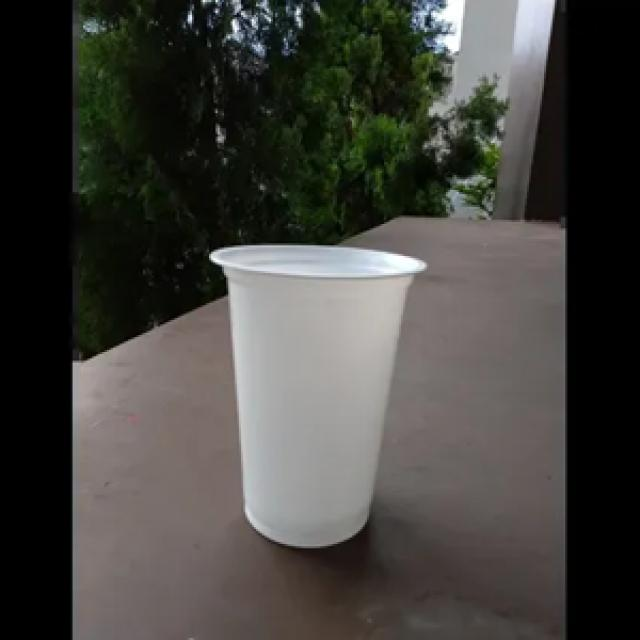plastic cup: (207, 233, 433, 561)
